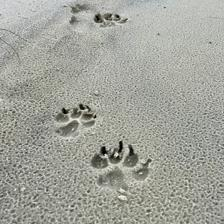dog: (92, 141, 151, 200)
